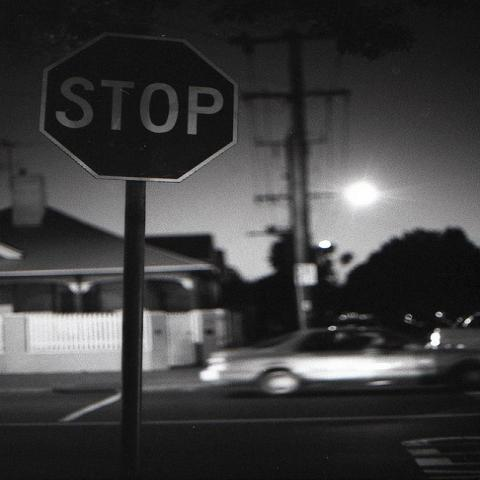car: (201, 325, 479, 394)
